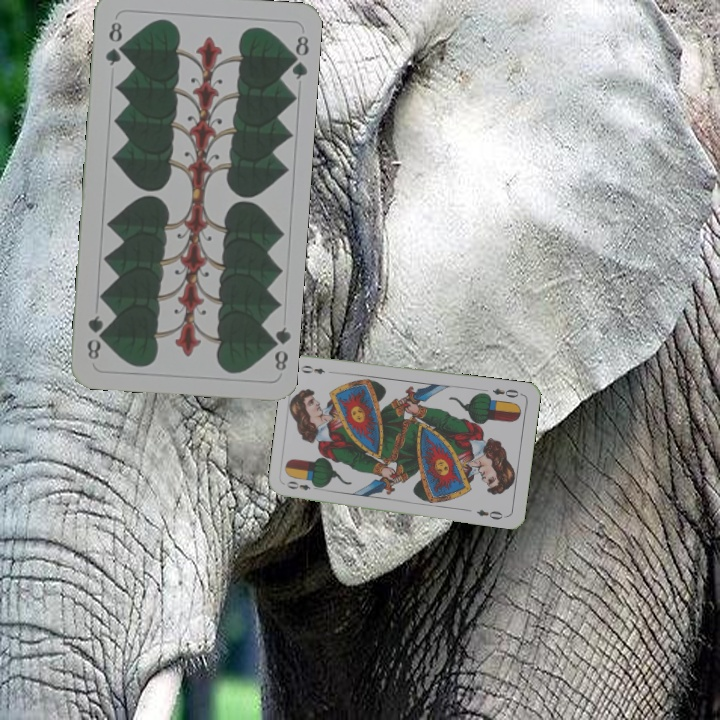EO: (282, 477, 322, 493), (489, 384, 525, 400)
G8: (264, 323, 292, 373), (101, 17, 126, 68)
